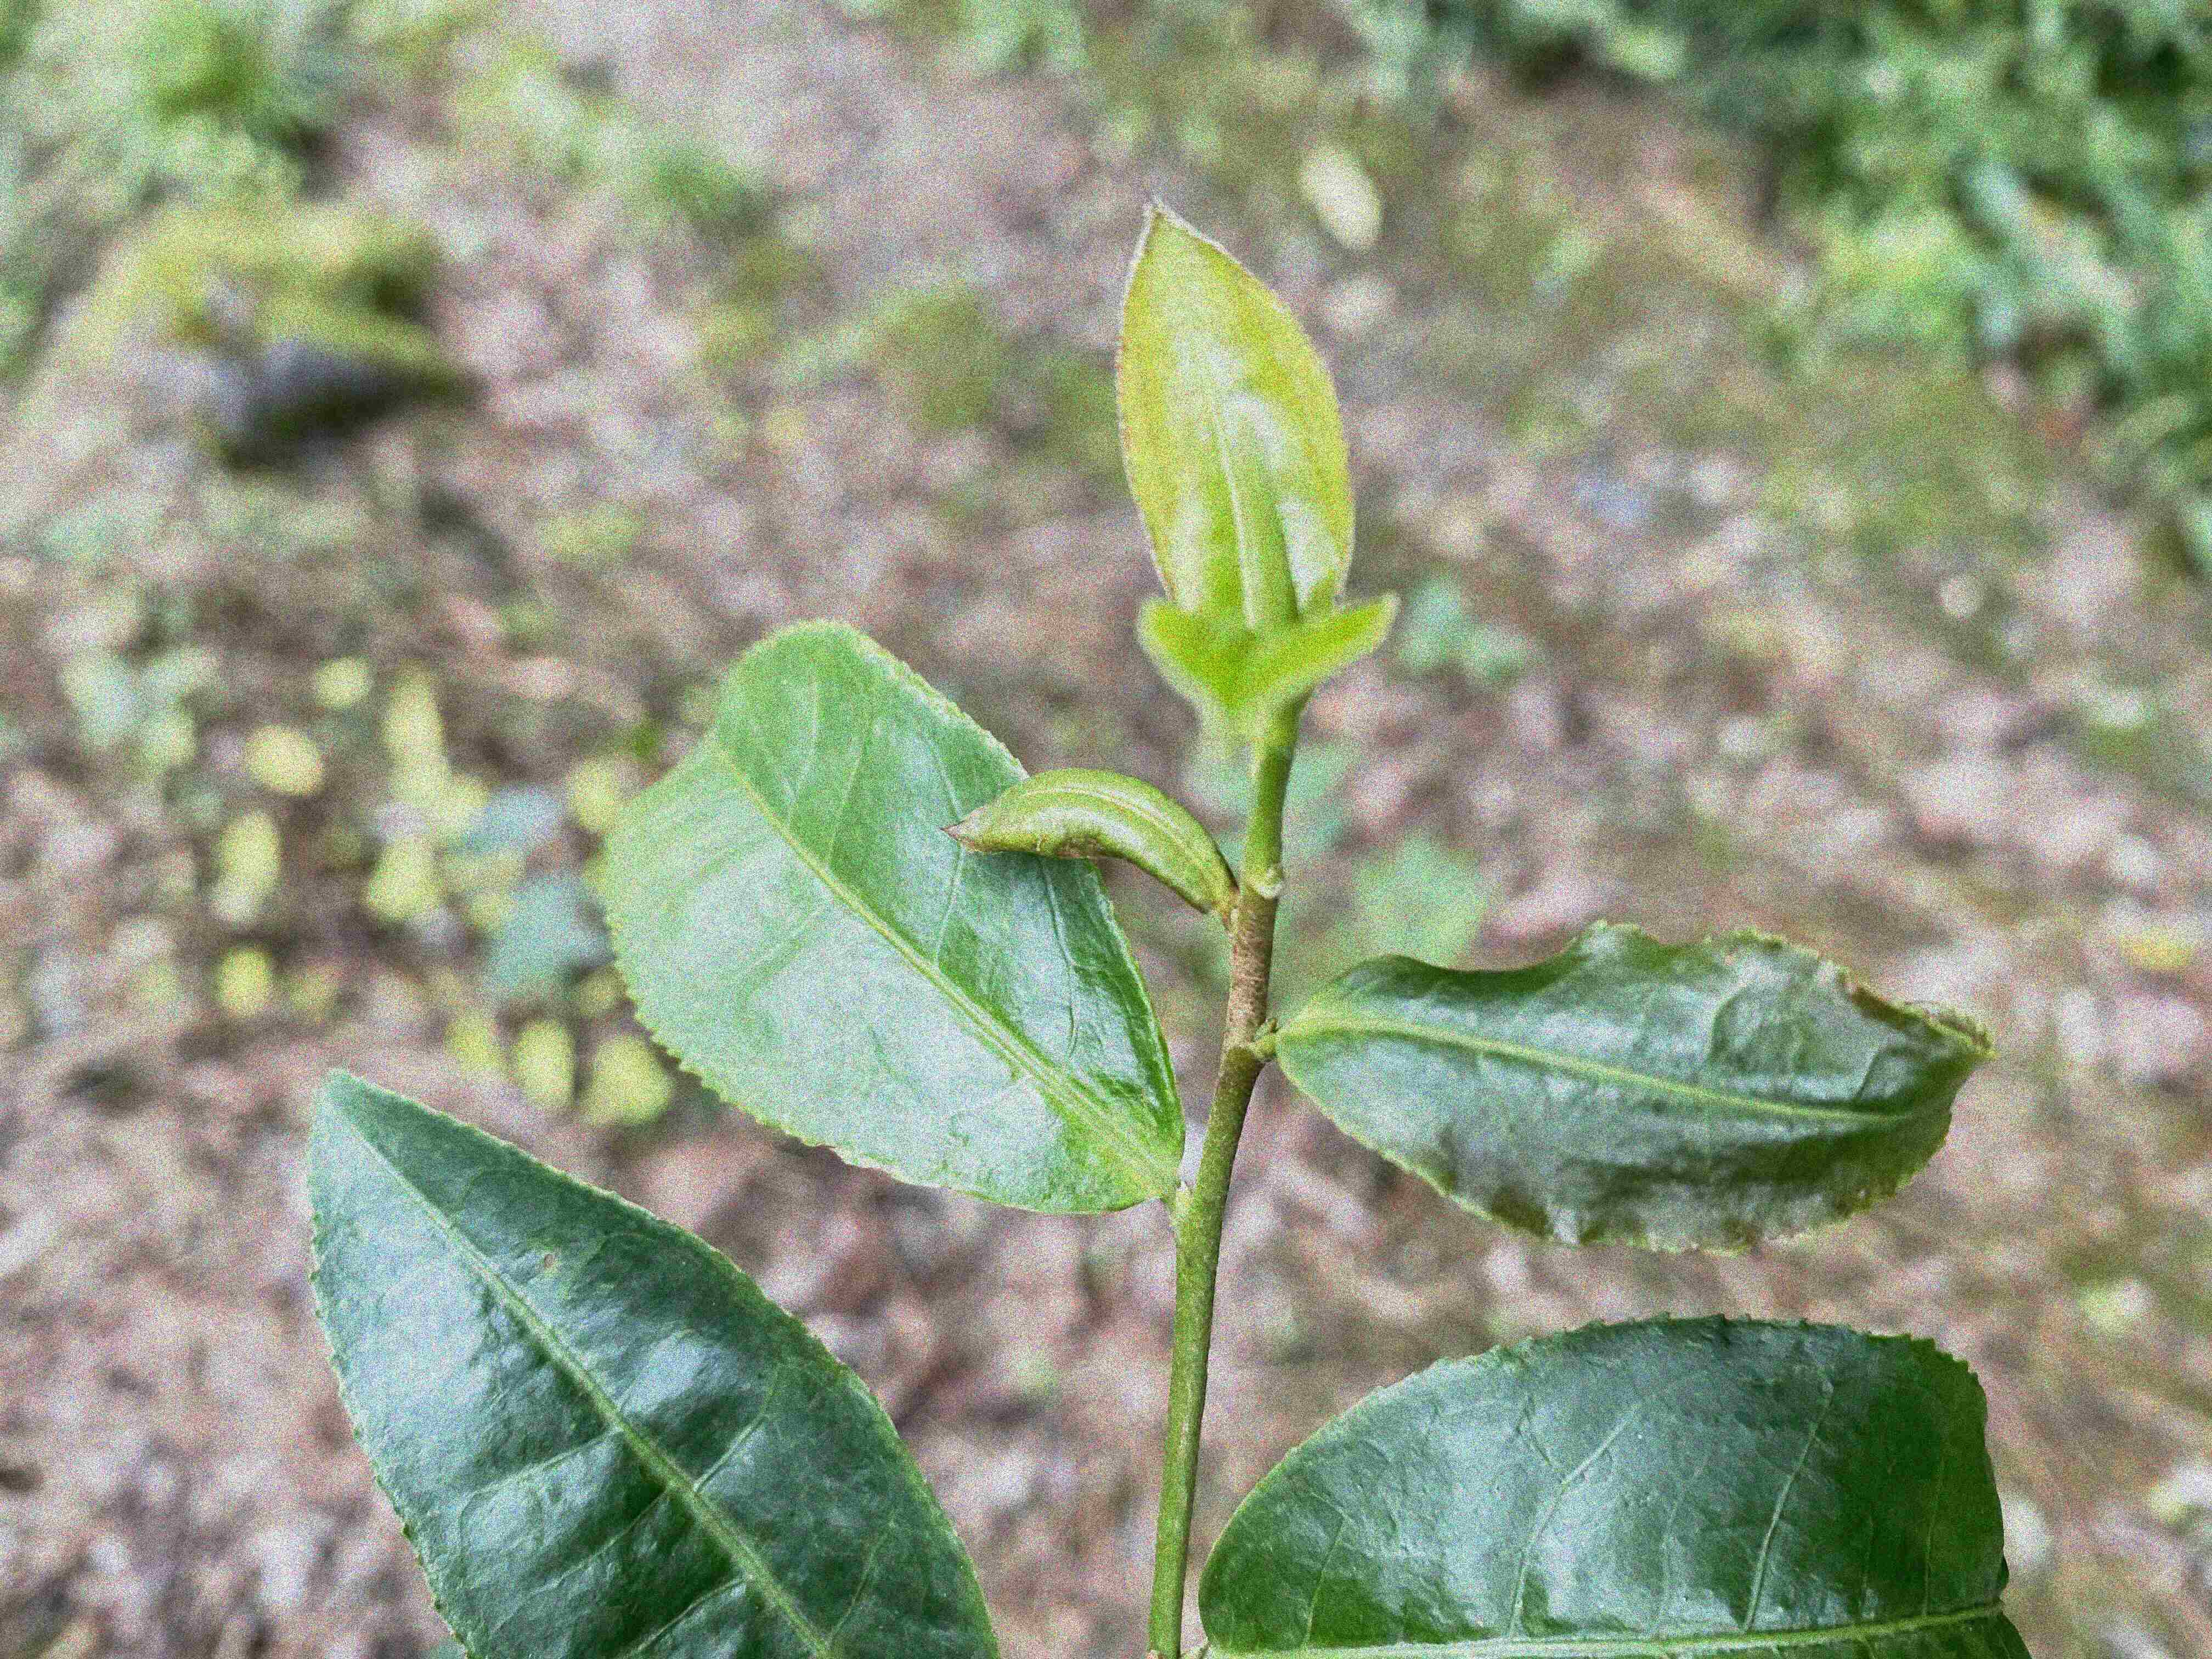healthy: (303, 1065, 1010, 1656), (601, 613, 1190, 1213), (1197, 1305, 2034, 1657)
tanju_low: (1109, 192, 1359, 641), (934, 767, 1235, 920)
